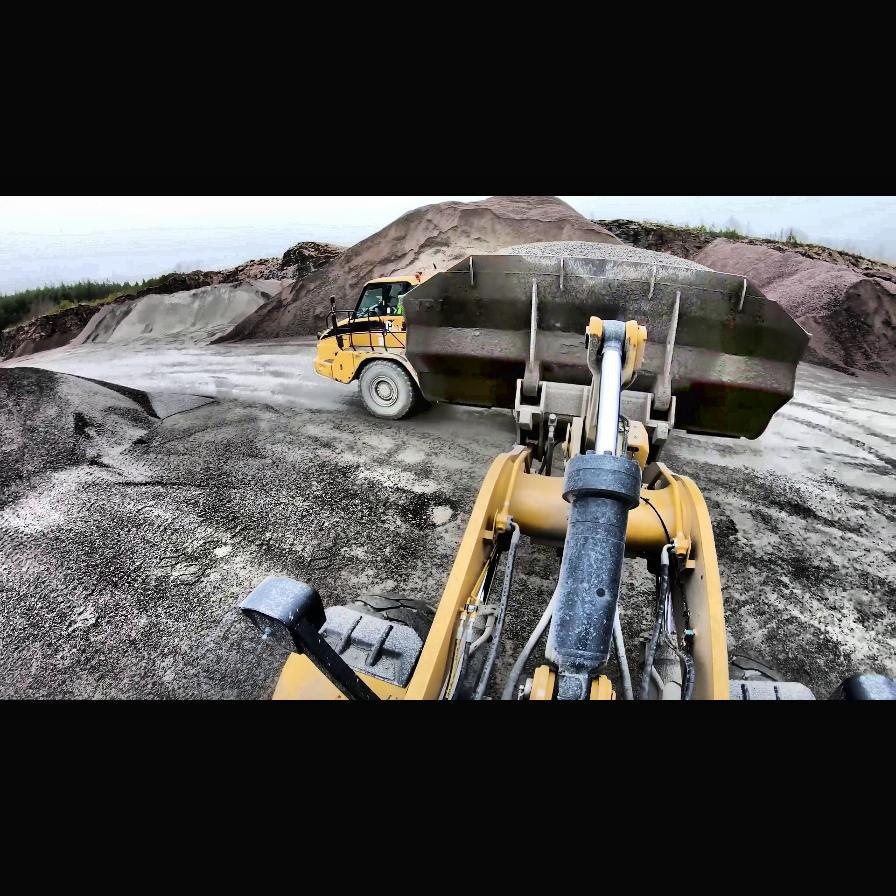anchor: (586, 316, 646, 390)
pile of gravel: (207, 197, 626, 351), (0, 366, 218, 512), (678, 235, 896, 367), (71, 276, 295, 346)
